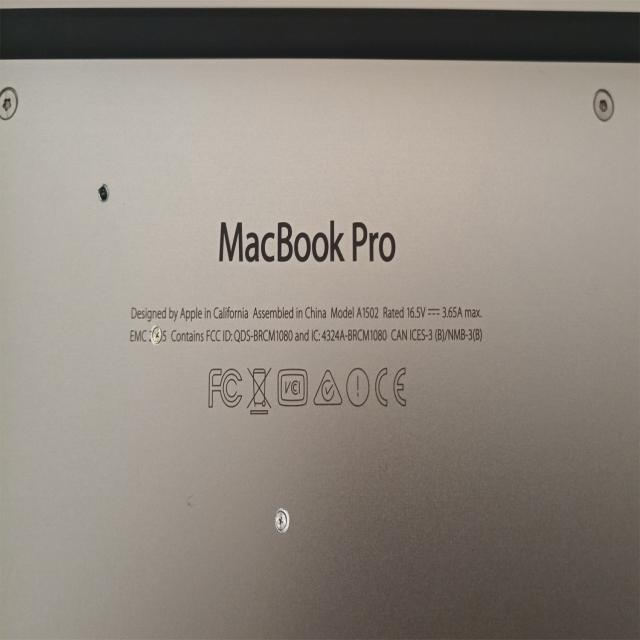lock: (275, 508, 289, 532), (150, 325, 162, 345), (98, 183, 109, 202)
